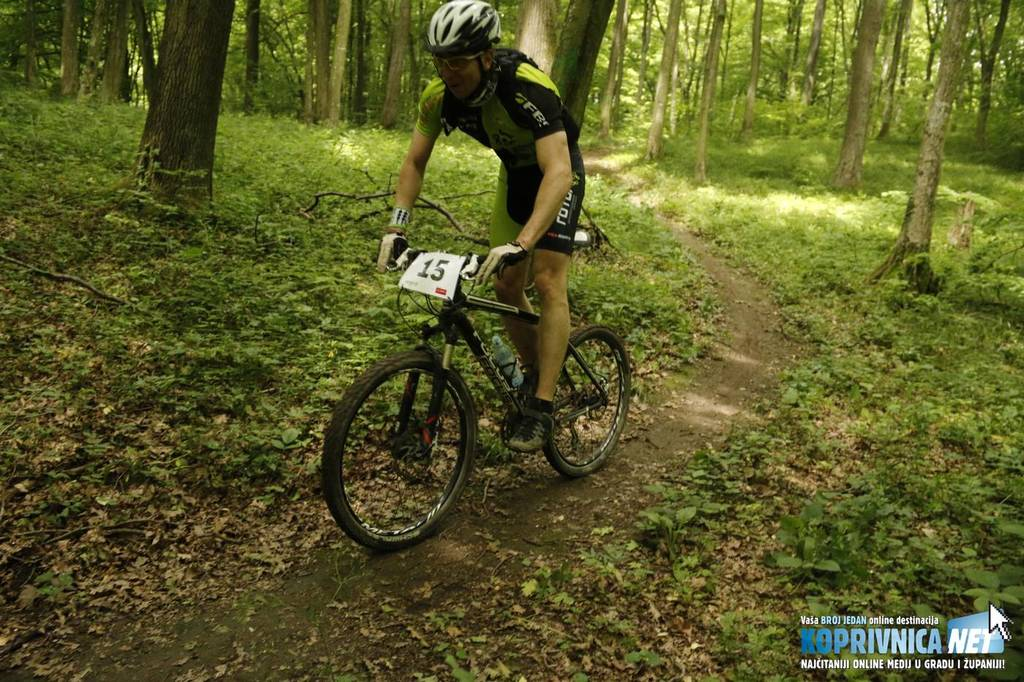Bike: (307, 247, 648, 553)
